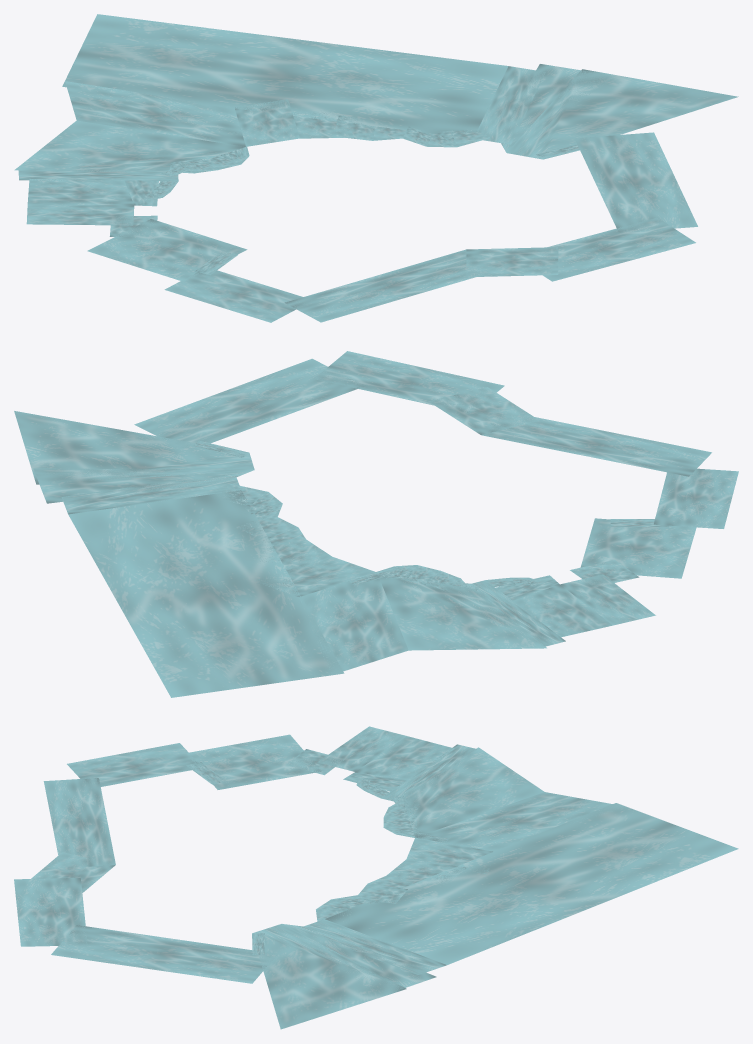
Rendered from LV3Nav.fbx.
3 views of the same model, one above another, from view 1: azimuth 30°, elevation 25°; view 2: azimuth 150°, elevation 25°; view 3: azimuth 270°, elevation 25° (orthographic). The views are drawn at different scales.
Parts seen in each view (by area): view 1: polySurface482; view 2: polySurface482; view 3: polySurface482.
Boxes of the visible parts, left/top/right/bottom form: polySurface482: left=14, top=14, right=738, bottom=322; polySurface482: left=14, top=351, right=738, bottom=697; polySurface482: left=14, top=726, right=738, bottom=1029.
Bounding box in the file's own units: 562 × 0 × 568.
